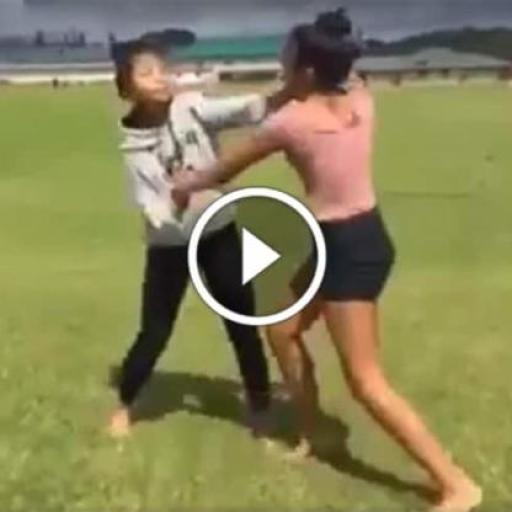Fighting: (107, 11, 485, 512)
